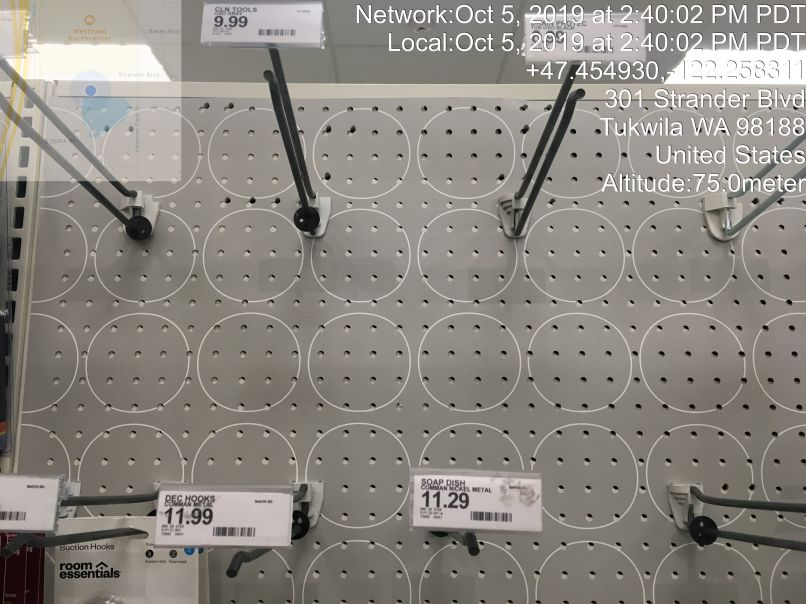Label: (195, 1, 334, 49)
Location: (592, 84, 806, 170)
Time: (353, 2, 806, 56)
Void: (28, 104, 806, 469)
